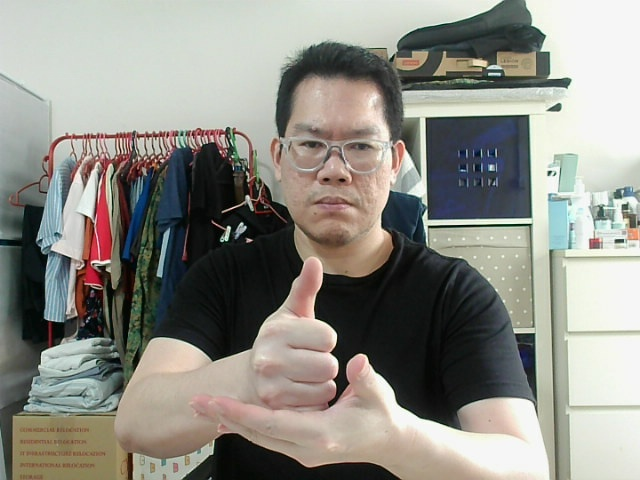help: (250, 264, 331, 407)
